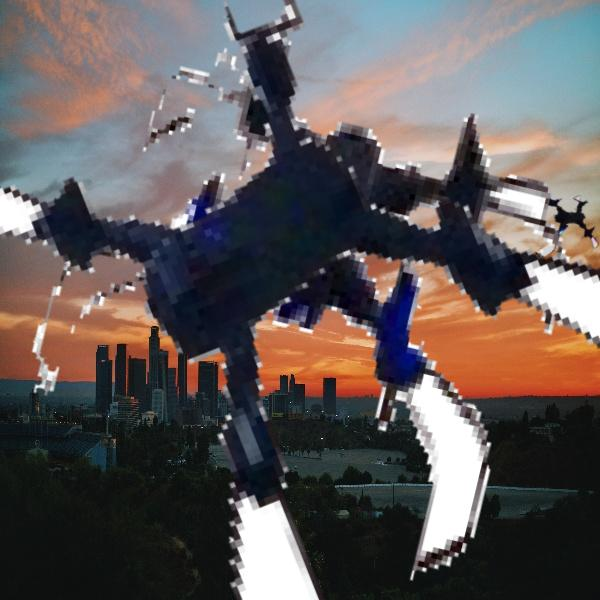drone: (25, 17, 579, 571), (516, 184, 600, 269)
